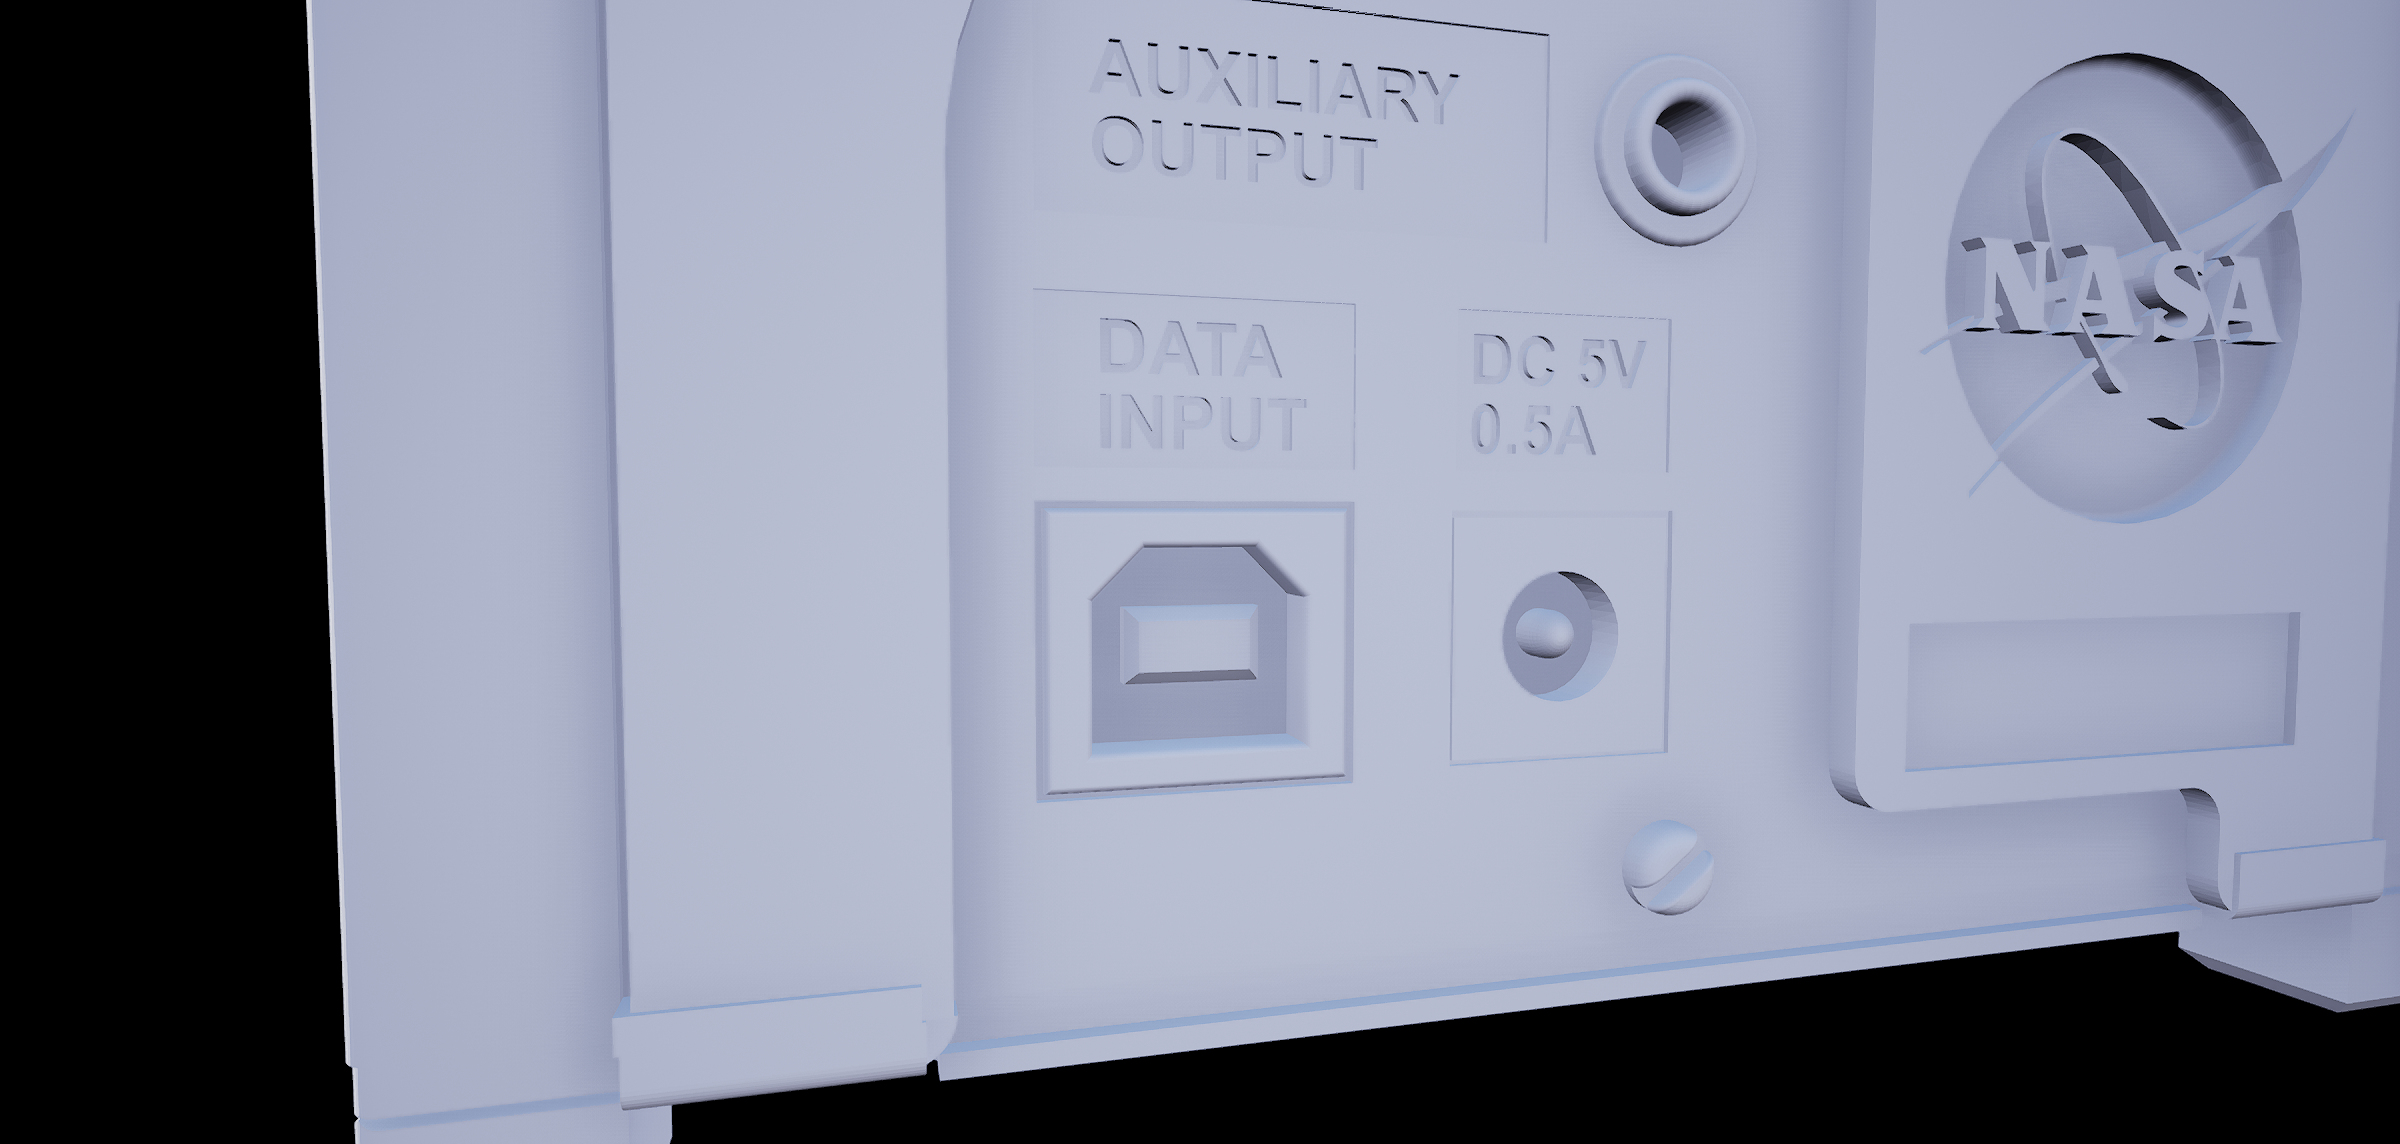aux: (1581, 41, 1769, 270)
dc: (1502, 561, 1621, 714)
usb: (1081, 533, 1322, 753)
